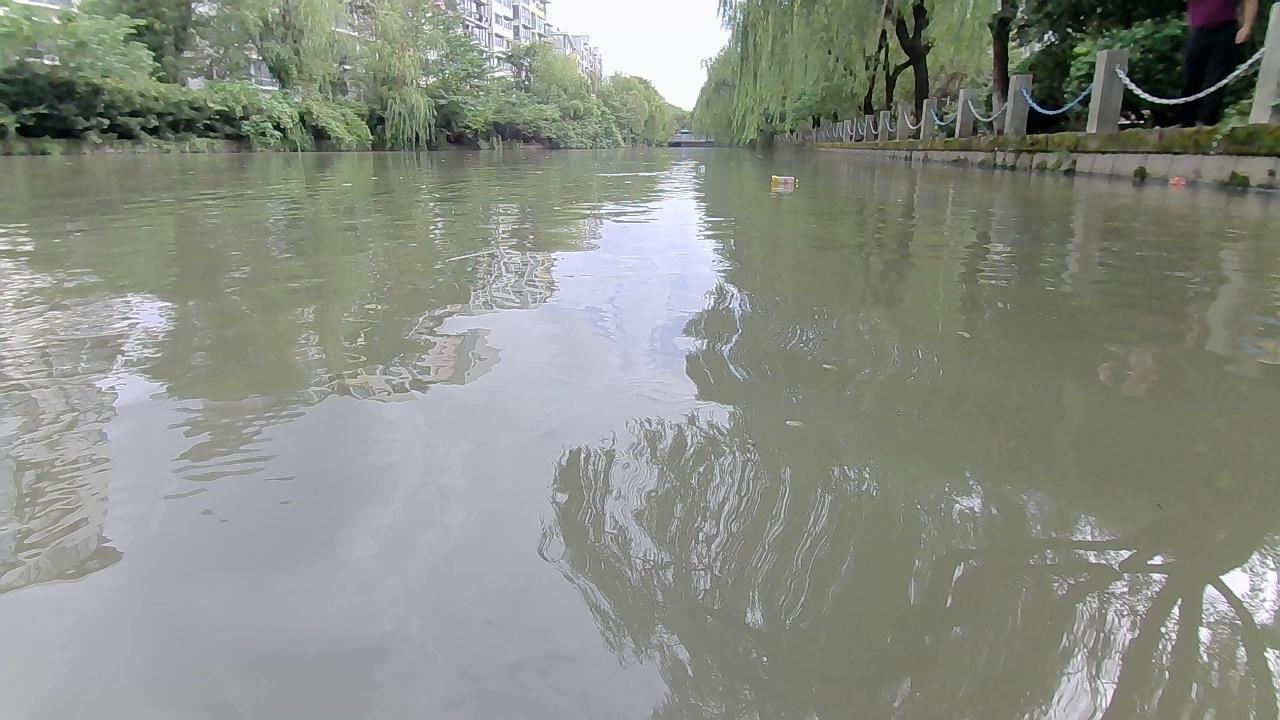bottle: (769, 172, 801, 190), (1165, 175, 1185, 190)
